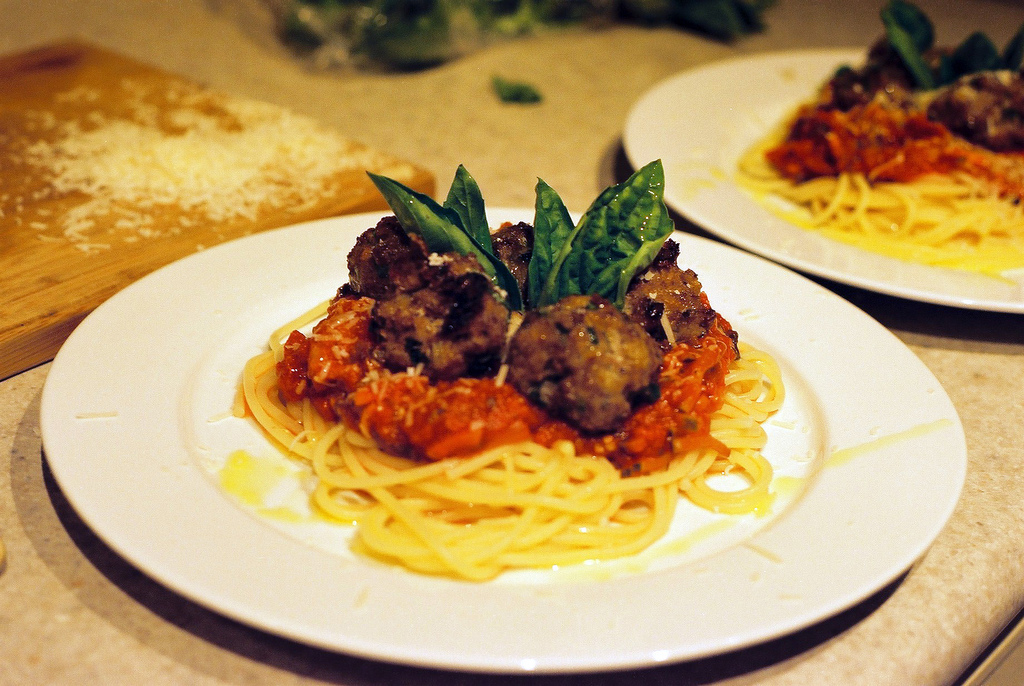meatballs: (352, 261, 695, 398)
plain spaghetti: (274, 406, 757, 561)
